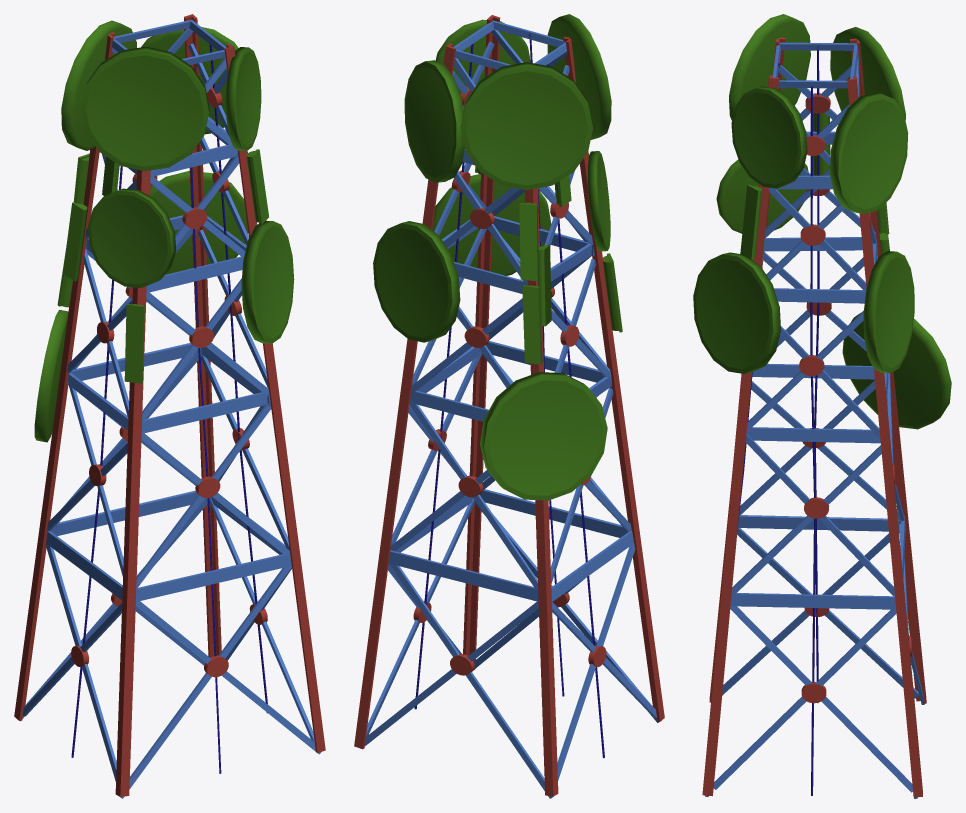
Rendered from Antenne02.fbx.
The picture shows the model from 3 angles, left to right: view 1: azimuth 30°, elevation 25°; view 2: azimuth 150°, elevation 25°; view 3: azimuth 270°, elevation 25°; orthographic projection.
Parts seen in each view (by area): view 1: Antenne02; view 2: Antenne02; view 3: Antenne02.
Part boxes in pixels (x1,y1,x2,y2): Antenne02: [14, 14, 325, 798]; Antenne02: [354, 14, 664, 798]; Antenne02: [693, 14, 951, 798].
Bounding box in the file's own units: 479 × 1463 × 483.
